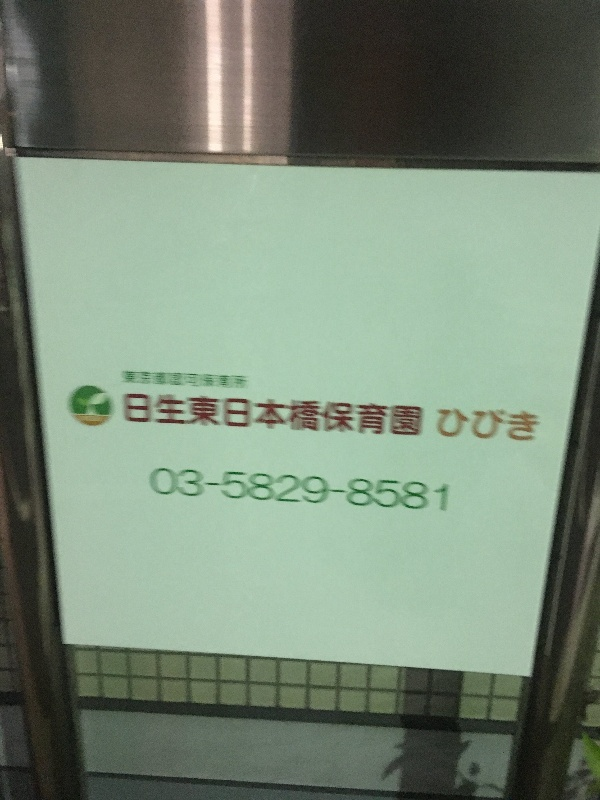text: (433, 467, 449, 516), (129, 390, 144, 439), (145, 390, 160, 439), (161, 390, 176, 439), (177, 390, 192, 439), (193, 390, 208, 439), (209, 390, 224, 439), (225, 390, 240, 439), (241, 390, 256, 439), (257, 390, 272, 439), (273, 390, 288, 439), (289, 390, 304, 439), (305, 390, 320, 439), (321, 390, 336, 439), (337, 390, 352, 439), (353, 390, 368, 439), (369, 390, 384, 439), (385, 390, 400, 439), (401, 390, 416, 439), (161, 467, 176, 516), (177, 467, 192, 516), (193, 467, 208, 516), (209, 467, 224, 516), (225, 467, 240, 516), (241, 467, 256, 516), (257, 467, 272, 516), (273, 467, 288, 516), (289, 467, 304, 516), (305, 467, 320, 516), (321, 467, 336, 516), (337, 467, 352, 516), (353, 467, 368, 516), (369, 467, 384, 516), (385, 467, 400, 516), (401, 467, 416, 516), (417, 467, 432, 516), (449, 407, 464, 444), (465, 407, 480, 444), (481, 407, 496, 444), (497, 407, 512, 444), (513, 407, 528, 444), (149, 467, 160, 516), (529, 407, 543, 444), (436, 407, 448, 444), (417, 390, 426, 439), (120, 390, 128, 439), (129, 369, 144, 390), (145, 369, 160, 390), (161, 369, 176, 390), (177, 369, 192, 390), (193, 369, 208, 390), (209, 369, 224, 390), (225, 369, 240, 390), (241, 369, 250, 390), (121, 369, 128, 390)
